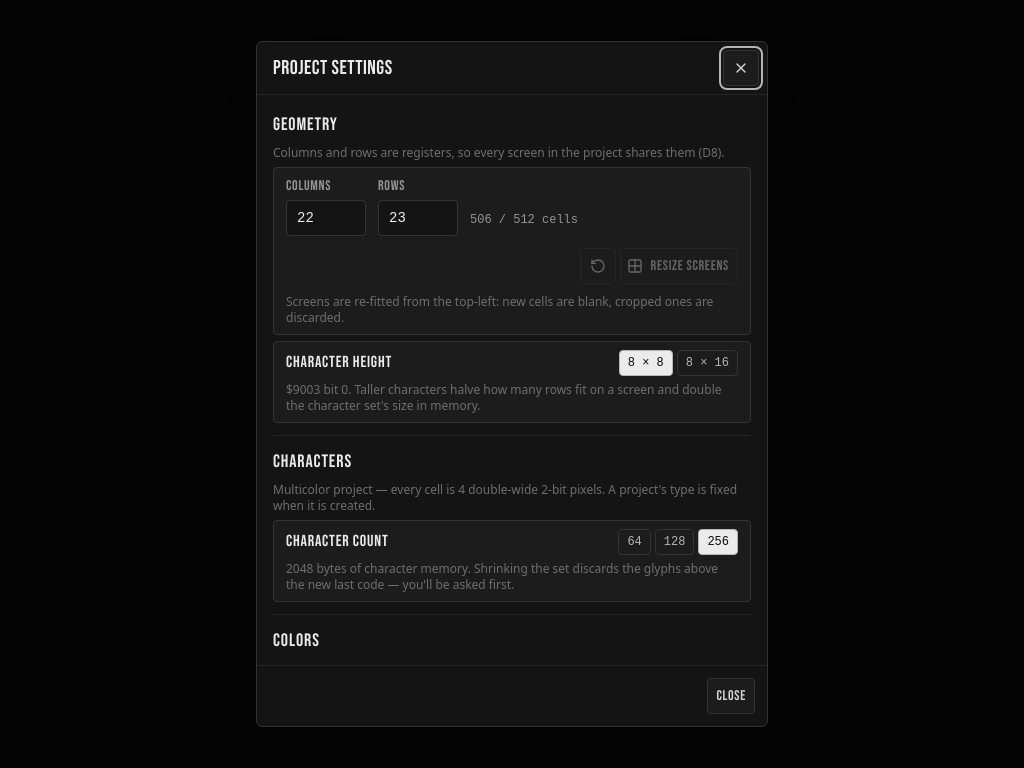
Test: ProjectSettingsDialog › geometry (D8, D9) › blocks a geometry the color RAM cannot hold
Replace the text in the number field named "Columns" with "31" at (326, 218), box [286,200,366,236]
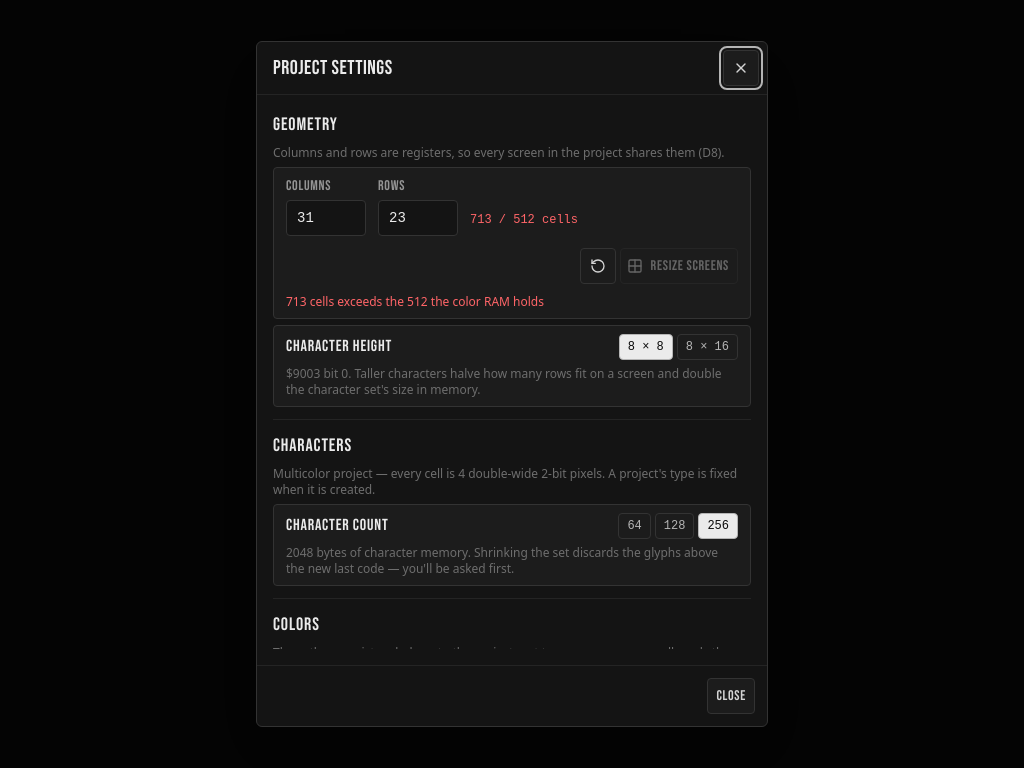
Replace the text in the number field named "Rows" with "32" at (418, 218), box [378,200,458,236]
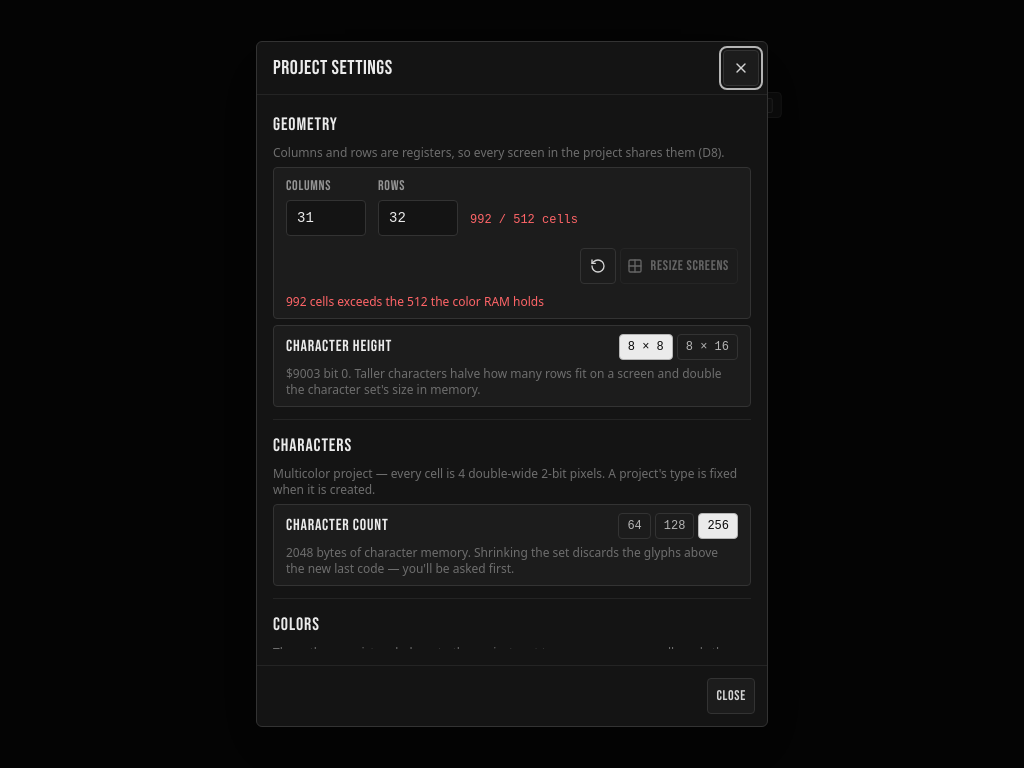
Expected: the button "Resize Screens" is disabled, [620,248,738,284]
Now the text "992 cells exceeds the 512" is shown, box [286,293,544,310]
